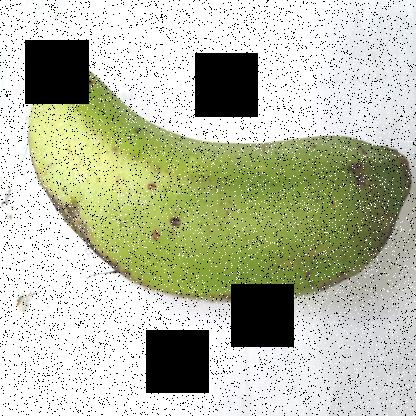rotten: (37, 170, 133, 293)
unripe: (22, 32, 416, 318)
